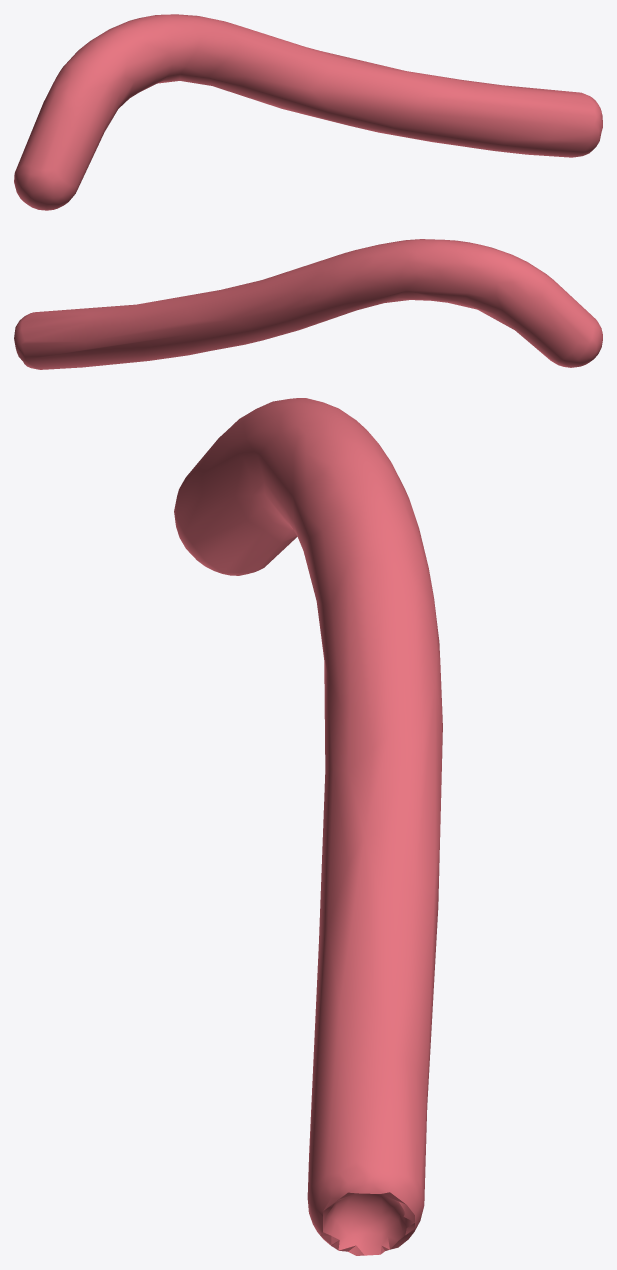
The model's file is fma4763.glb.
3 views of the same model, one above another, from view 1: azimuth 30°, elevation 25°; view 2: azimuth 150°, elevation 25°; view 3: azimuth 270°, elevation 25° (orthographic). The views are drawn at different scales.
Visible parts, largest first — view 1: FMA4763; view 2: FMA4763; view 3: FMA4763.
Part boxes in pixels (x1,y1,x2,y2): FMA4763: [14, 14, 602, 210]; FMA4763: [14, 239, 602, 369]; FMA4763: [174, 398, 442, 1255].
Size of the model in its own units: 0.0752 by 0.0284 by 0.016.
